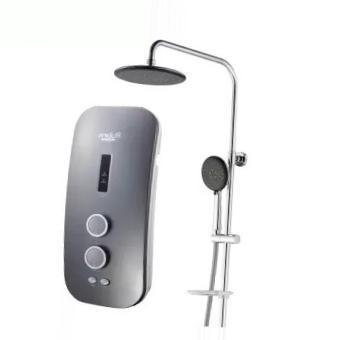Ducha: (52, 14, 246, 333)
